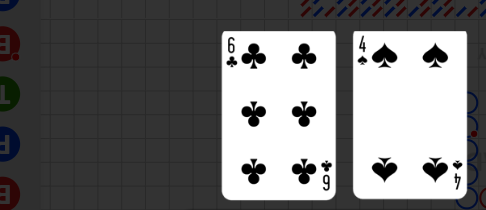4S: (450, 157, 463, 191)
6C: (225, 35, 239, 70)
